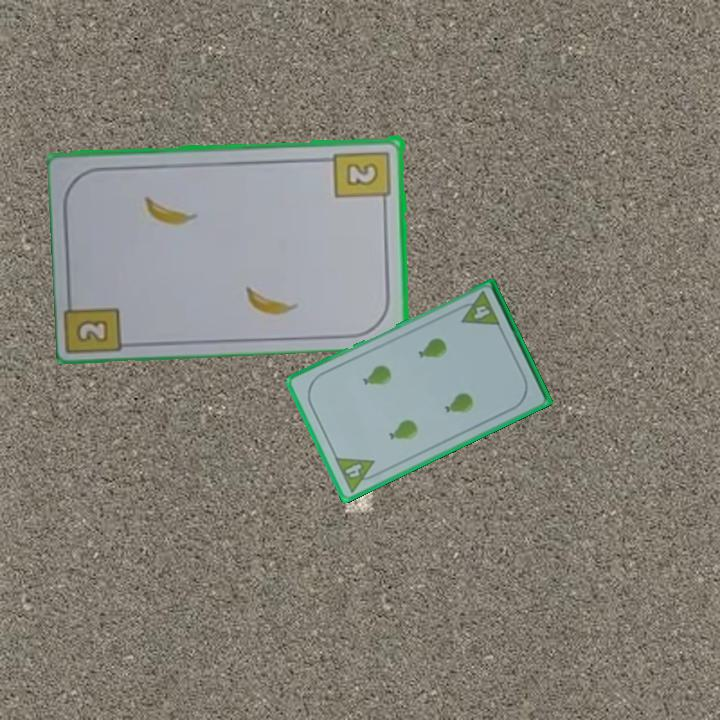2b: (331, 147, 394, 208), (76, 318, 108, 342)
4p: (331, 454, 383, 495), (453, 288, 503, 329)
